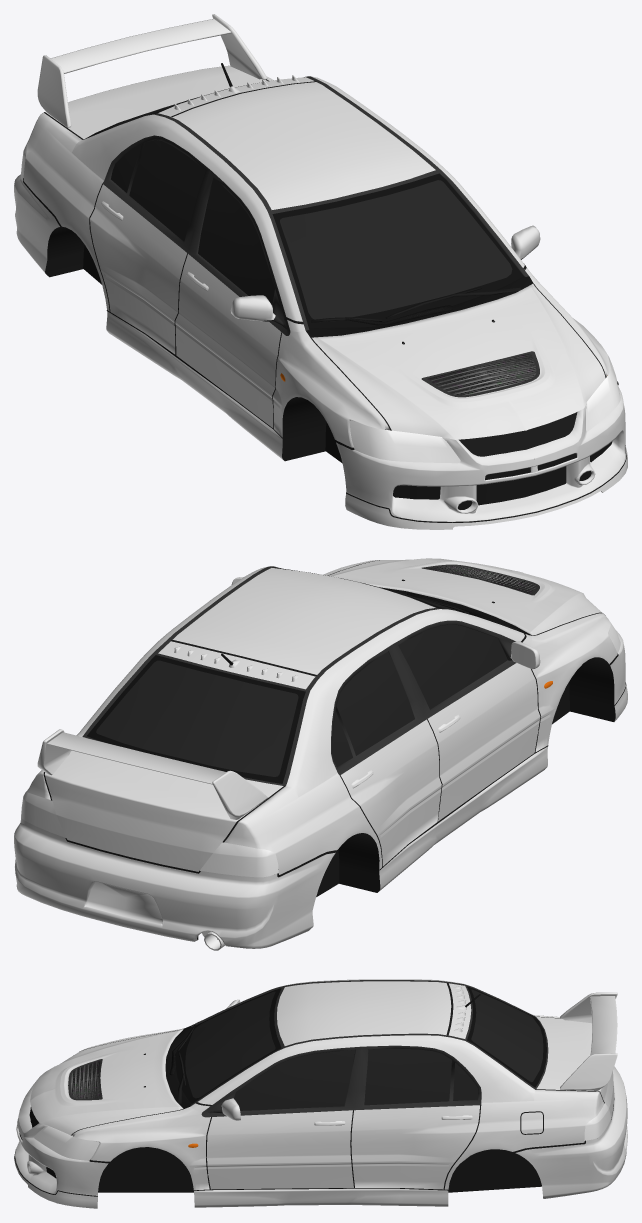
The model's file is EVO.fbx.
The picture shows the model from 3 angles, top to bottom: view 1: azimuth 30°, elevation 25°; view 2: azimuth 150°, elevation 25°; view 3: azimuth 270°, elevation 25°; orthographic projection. The views are drawn at different scales.
Parts seen in each view (by area): view 1: Combined GLOSS Object 0, Combined O_Glass Object 0, Combined O_DarkPlastic Object 0, Combined DarkGrey Object 0, Combined O_Black Object 0, Combined __Charcoal_ Object 0, Combined O_FrontLights Object 0, Combined tx02_021 Object 0; view 2: Combined GLOSS Object 0, Combined O_Glass Object 0, Combined DarkGrey Object 0, Combined __Charcoal_ Object 0, Combined O_Black Object 0, Combined O_FrontLights Object 0, Combined O_DarkPlastic Object 0, Combined tx02_021 Object 0, Combined CHROME Object 0; view 3: Combined GLOSS Object 0, Combined O_Glass Object 0, Combined __Charcoal_ Object 0, Combined DarkGrey Object 0, Combined O_Black Object 0, Combined O_DarkPlastic Object 0, Combined O_FrontLights Object 0, Combined tx02_021 Object 0.
Part boxes in pixels (box(x1,y1,x2,y2)): Combined GLOSS Object 0: box(14, 14, 627, 529); Combined O_Glass Object 0: box(98, 97, 512, 321); Combined O_DarkPlastic Object 0: box(23, 79, 626, 522); Combined DarkGrey Object 0: box(83, 76, 539, 397); Combined O_Black Object 0: box(87, 63, 532, 337); Combined __Charcoal_ Object 0: box(45, 226, 385, 463); Combined O_FrontLights Object 0: box(21, 144, 620, 463); Combined tx02_021 Object 0: box(427, 353, 536, 395); Combined GLOSS Object 0: box(14, 558, 627, 948); Combined O_Glass Object 0: box(96, 590, 507, 776); Combined DarkGrey Object 0: box(83, 564, 539, 785); Combined __Charcoal_ Object 0: box(278, 657, 615, 896); Combined O_Black Object 0: box(87, 567, 532, 783); Combined O_FrontLights Object 0: box(21, 622, 620, 877); Combined O_DarkPlastic Object 0: box(43, 560, 626, 939); Combined tx02_021 Object 0: box(427, 565, 536, 593); Combined CHROME Object 0: box(202, 578, 535, 950); Combined GLOSS Object 0: box(14, 979, 627, 1208); Combined O_Glass Object 0: box(185, 989, 543, 1110); Combined __Charcoal_ Object 0: box(98, 1147, 541, 1192); Combined DarkGrey Object 0: box(68, 980, 548, 1117); Combined O_Black Object 0: box(165, 986, 546, 1108); Combined O_DarkPlastic Object 0: box(14, 983, 614, 1196); Combined O_FrontLights Object 0: box(34, 1103, 611, 1160); Combined tx02_021 Object 0: box(71, 1060, 100, 1098).
Size of the model in its own units: 1.94 by 1.37 by 4.57.
Materials: 10 (1 with a texture image).
